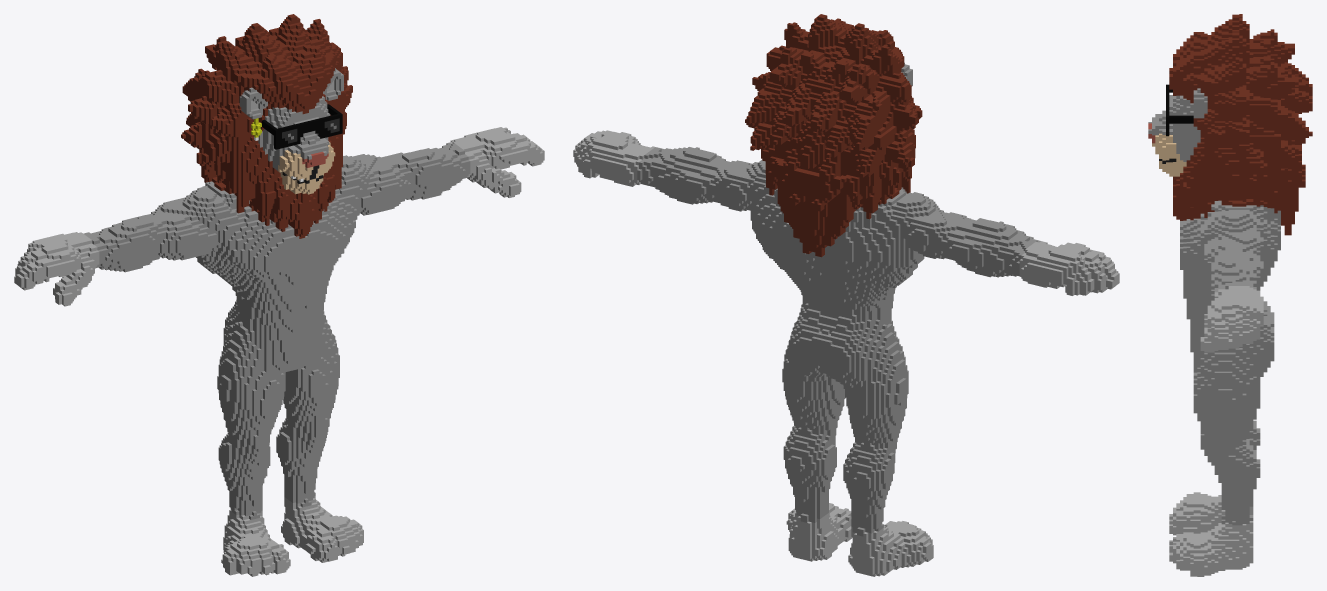
Rendered from 308-wKiNaqLi.glb.
3 renders of one model, left to right at view 1: azimuth 30°, elevation 25°; view 2: azimuth 150°, elevation 25°; view 3: azimuth 270°, elevation 25°, orthographic. The views are drawn at different scales.
Visible parts, largest first — view 1: smirk; view 2: smirk; view 3: smirk.
Boxes of the visible parts, left/top/right/bottom form: smirk: left=14, top=14, right=544, bottom=576; smirk: left=573, top=14, right=1119, bottom=576; smirk: left=1148, top=14, right=1312, bottom=576.
Size of the model in its own units: 17.2 by 16.5 by 4.7.
Materials: 5 (5 with a texture image).
